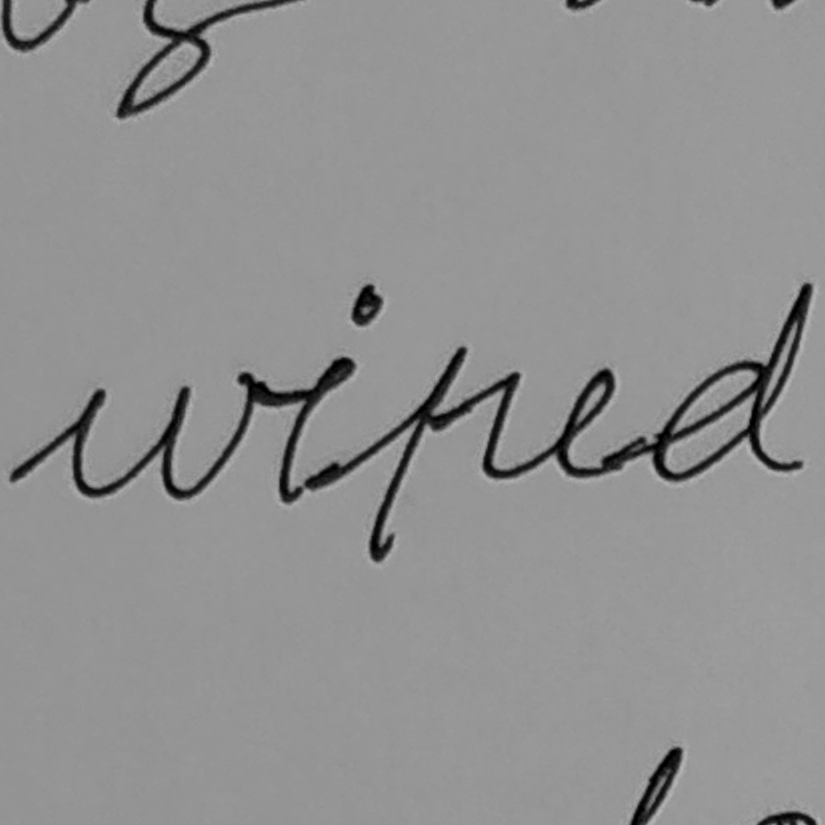d: (649, 279, 815, 485)
e: (552, 362, 624, 481)
i: (271, 281, 386, 505)
p: (366, 342, 522, 566)
w: (68, 367, 259, 503)
